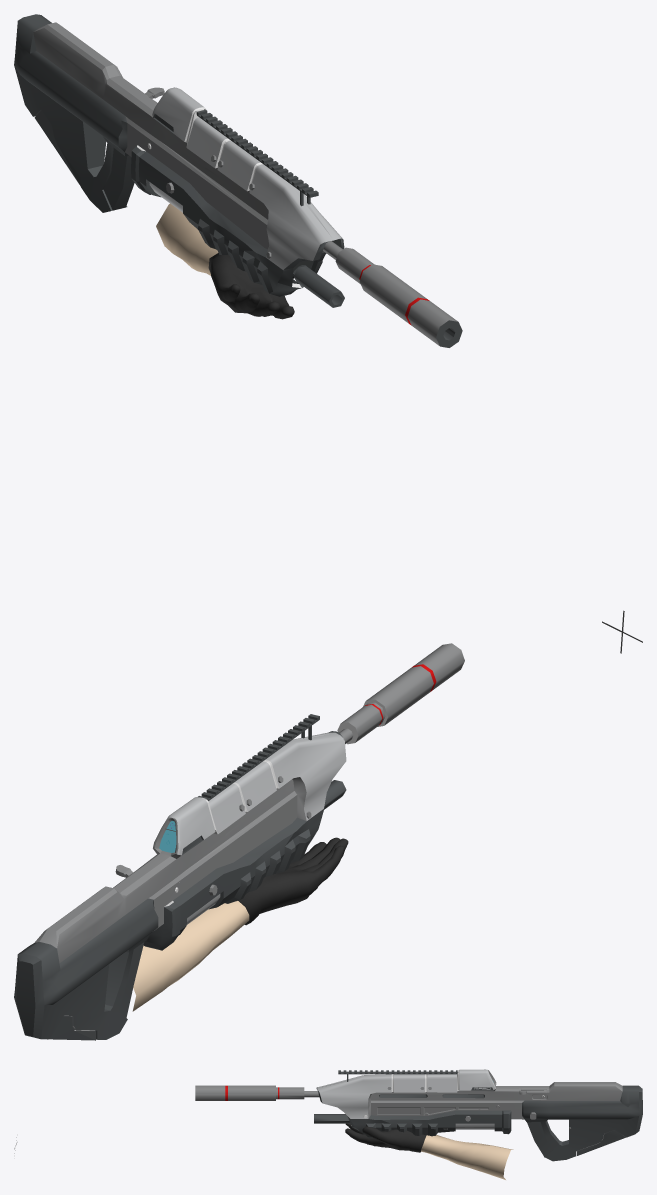
3 views of the same model, one above another, from view 1: azimuth 30°, elevation 25°; view 2: azimuth 150°, elevation 25°; view 3: azimuth 270°, elevation 25° (orthographic). The views are drawn at different scales.
Parts seen in each view (by area): view 1: SketchUp.031, SketchUp, SketchUp.005, SketchUp.012, non-ts_css.001, non-ts_css.002, SketchUp.056, instance_2, SketchUp.011, SketchUp.016, SketchUp.015, SketchUp.054 (+1 smaller); view 2: SketchUp.031, SketchUp, SketchUp.005, non-ts_css.002, SketchUp.012, non-ts_css.001, SketchUp.056, SketchUp.011, instance_2, SketchUp.016, SketchUp.054, SketchUp.015 (+2 smaller); view 3: SketchUp.031, SketchUp, SketchUp.005, non-ts_css.002, SketchUp.012, non-ts_css.001, SketchUp.056, SketchUp.011, SketchUp.016, instance_2, SketchUp.015, SketchUp.054 (+5 smaller).
Part boxes in pixels (bbox=[...]): SketchUp.031: bbox=[14, 14, 134, 212]; SketchUp: bbox=[33, 22, 269, 249]; SketchUp.005: bbox=[131, 145, 344, 296]; SketchUp.012: bbox=[249, 164, 342, 269]; non-ts_css.001: bbox=[208, 253, 294, 319]; non-ts_css.002: bbox=[156, 203, 218, 275]; SketchUp.056: bbox=[359, 264, 426, 323]; instance_2: bbox=[195, 109, 318, 206]; SketchUp.011: bbox=[152, 87, 203, 141]; SketchUp.016: bbox=[217, 140, 260, 190]; SketchUp.015: bbox=[186, 117, 227, 167]; SketchUp.054: bbox=[407, 299, 457, 345]; SketchUp.031: bbox=[14, 898, 158, 1039]; SketchUp: bbox=[34, 777, 306, 963]; SketchUp.005: bbox=[143, 731, 342, 950]; non-ts_css.002: bbox=[132, 901, 249, 1011]; SketchUp.012: bbox=[265, 732, 346, 820]; non-ts_css.001: bbox=[238, 837, 348, 925]; SketchUp.056: bbox=[366, 666, 433, 725]; SketchUp.011: bbox=[153, 797, 215, 855]; instance_2: bbox=[198, 714, 319, 800]; SketchUp.016: bbox=[235, 761, 276, 811]; SketchUp.054: bbox=[414, 643, 464, 690]; SketchUp.015: bbox=[208, 783, 245, 834]; SketchUp.031: bbox=[522, 1085, 642, 1161]; SketchUp: bbox=[368, 1070, 622, 1119]; SketchUp.005: bbox=[316, 1087, 511, 1137]; non-ts_css.002: bbox=[421, 1135, 513, 1179]; SketchUp.012: bbox=[317, 1074, 391, 1118]; non-ts_css.001: bbox=[345, 1123, 426, 1152]; SketchUp.056: bbox=[228, 1085, 275, 1100]; SketchUp.011: bbox=[459, 1069, 496, 1090]; SketchUp.016: bbox=[394, 1074, 424, 1092]; instance_2: bbox=[338, 1070, 458, 1081]; SketchUp.015: bbox=[427, 1074, 456, 1092]; SketchUp.054: bbox=[195, 1085, 225, 1100].
Size of the model in its own units: 0.0356 by 0.0523 by 0.2974.
